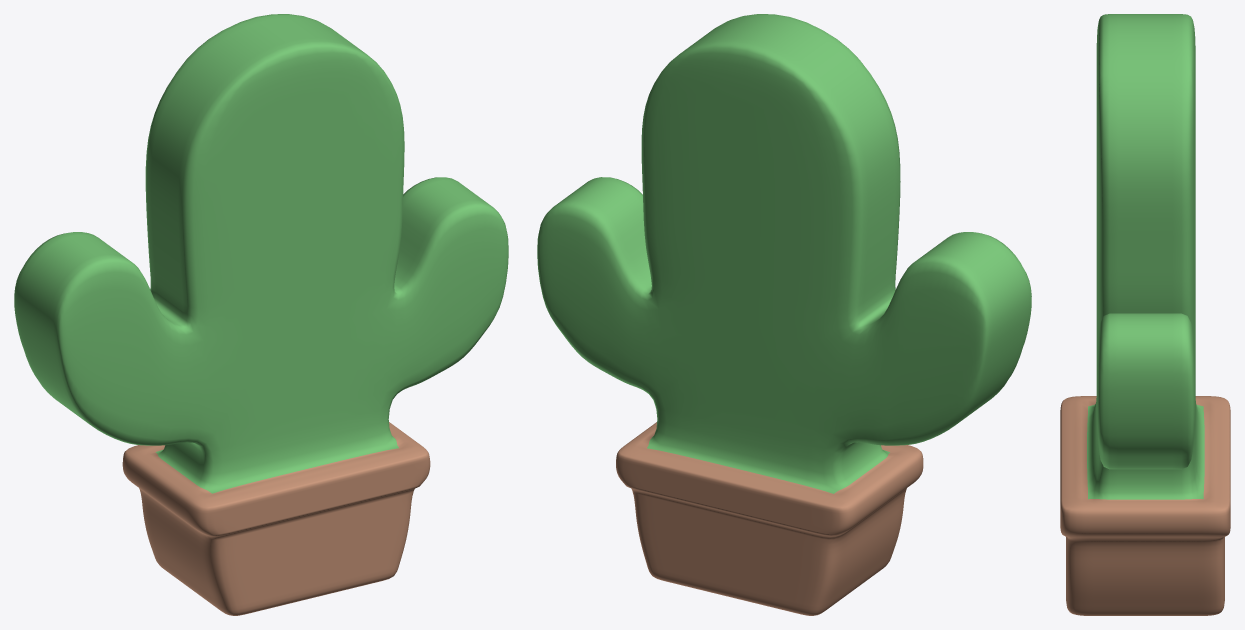
The model's file is CactaceaePlant.fbx.
3 views of the same model, side by side, from view 1: azimuth 30°, elevation 25°; view 2: azimuth 150°, elevation 25°; view 3: azimuth 270°, elevation 25° (orthographic).
Visible parts, largest first — view 1: pCube1; view 2: pCube1; view 3: pCube1.
Boxes of the visible parts, bbox=[...] form: pCube1: bbox=[14, 14, 508, 615]; pCube1: bbox=[537, 14, 1031, 615]; pCube1: bbox=[1060, 14, 1230, 615].
Bounding box in the file's own units: 17.48 × 20.01 × 5.59.
